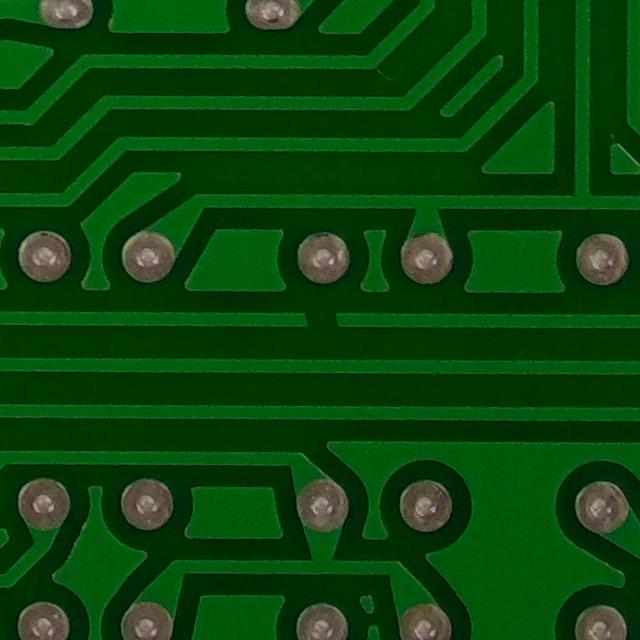open_circuit: (287, 297, 354, 343)
